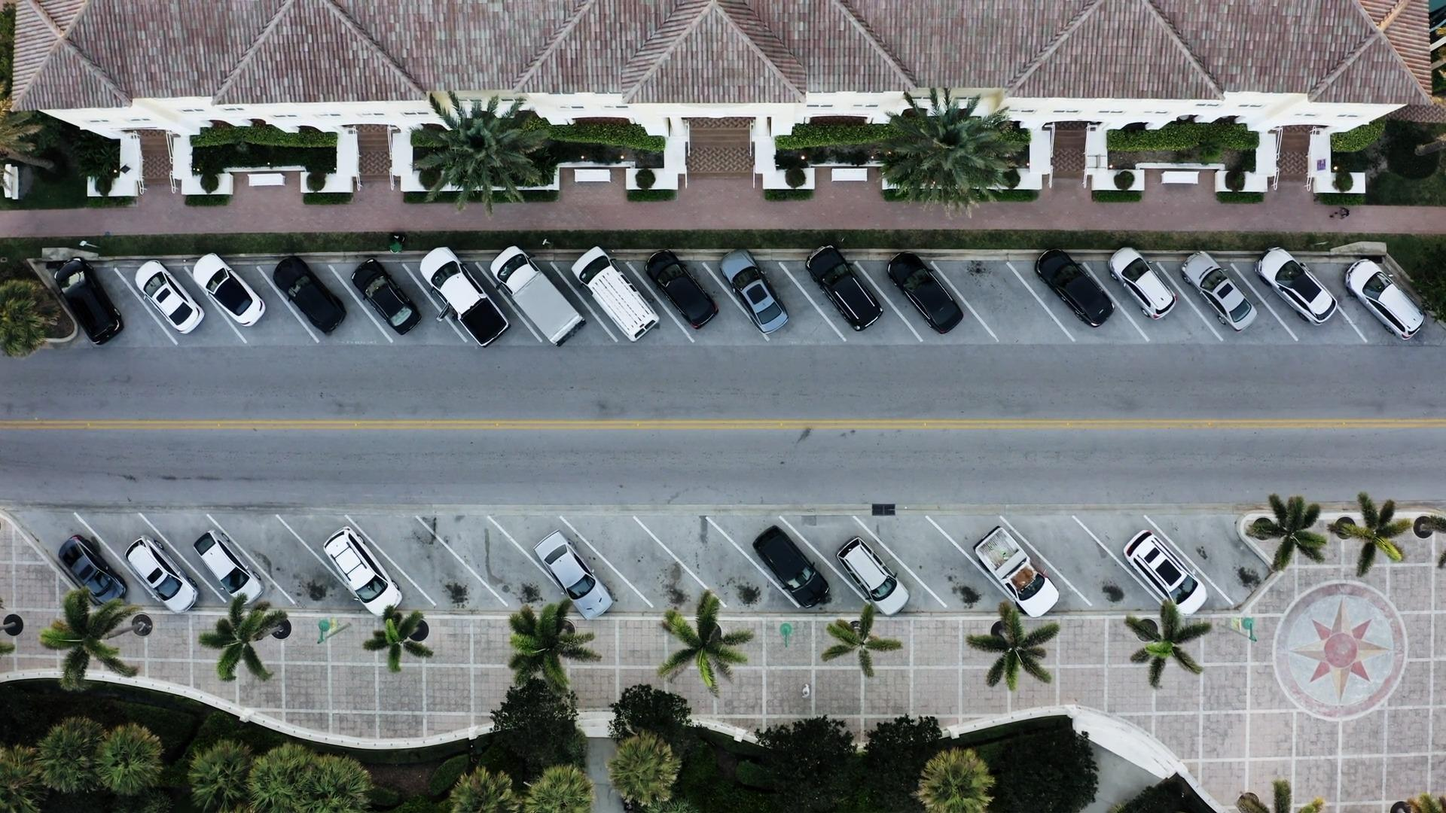free: (1197, 518, 1284, 603), (900, 532, 968, 606), (1068, 525, 1135, 599), (974, 257, 1041, 331), (269, 527, 335, 601), (687, 522, 753, 596), (606, 539, 672, 613), (408, 534, 474, 608), (469, 529, 535, 603)
occupied: (420, 246, 515, 350), (581, 247, 666, 341), (323, 527, 406, 615), (978, 526, 1057, 617), (532, 531, 612, 618), (1343, 260, 1429, 340), (804, 245, 882, 333), (1254, 245, 1339, 325), (751, 524, 830, 609), (49, 258, 123, 344), (518, 259, 588, 345), (1034, 250, 1111, 328), (1182, 252, 1258, 331), (719, 248, 788, 335), (825, 517, 894, 604), (886, 253, 959, 335), (1120, 510, 1189, 596), (123, 535, 200, 612), (274, 256, 348, 335), (193, 253, 267, 328), (350, 258, 421, 336), (193, 530, 264, 606), (57, 534, 128, 607), (1108, 247, 1176, 320), (647, 266, 717, 310)
